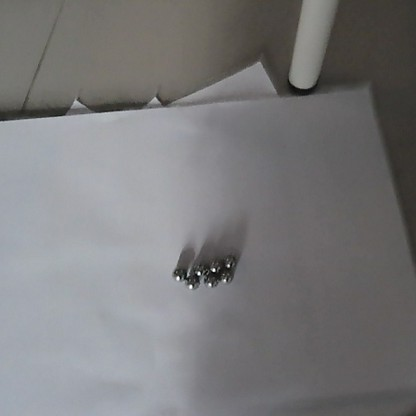ironball: (203, 274, 221, 293), (190, 261, 207, 279), (183, 274, 201, 291), (220, 250, 235, 268), (171, 265, 186, 282), (218, 269, 233, 285), (207, 257, 220, 269)
